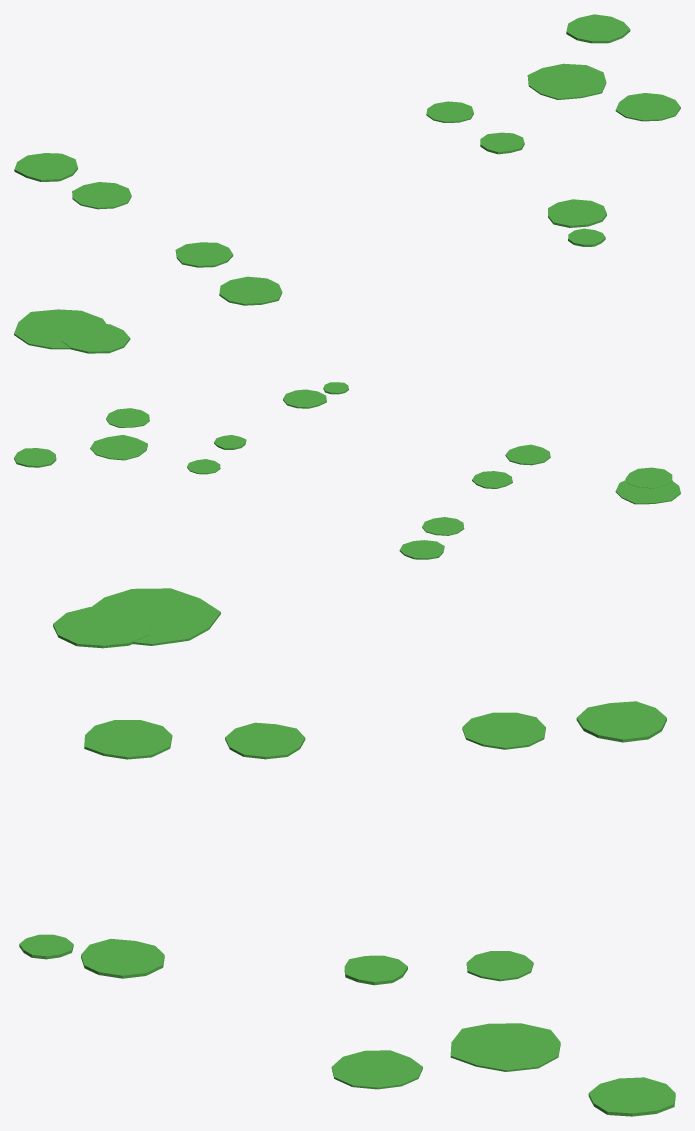
File: IslandGrass_Grass.fbx
3 views of the same model, one above another, from view 1: azimuth 30°, elevation 25°; view 2: azimuth 150°, elevation 25°; view 3: azimuth 270°, elevation 25° (orthographic). The views are drawn at different scales.
Parts seen in each view (by area): view 1: IslandGrass1.001; view 2: IslandGrass1.001; view 3: IslandGrass1.001.
Part boxes in pixels (left/top/right/bottom): IslandGrass1.001: left=14, top=14, right=680, bottom=353; IslandGrass1.001: left=14, top=382, right=680, bottom=559; IslandGrass1.001: left=19, top=588, right=675, bottom=1116.
Bounding box in the file's own units: 45735 × 129 × 24111.
